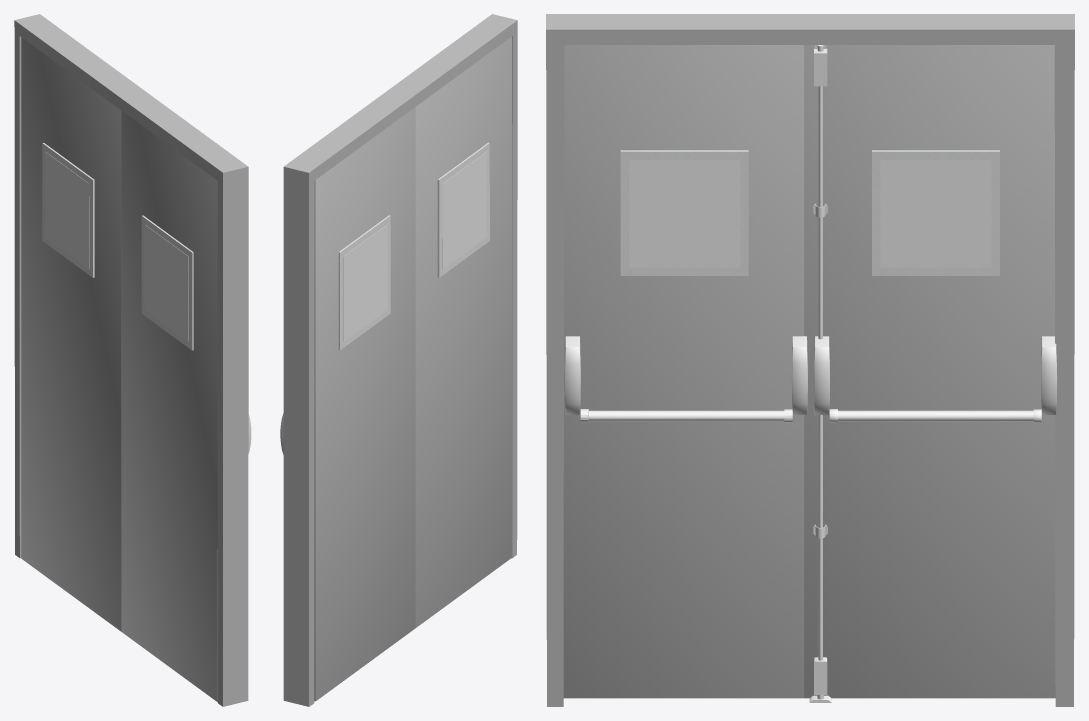
The picture shows the model from 3 angles, left to right: view 1: azimuth 30°, elevation 25°; view 2: azimuth 150°, elevation 25°; view 3: azimuth 270°, elevation 25°; orthographic projection. The views are drawn at different scales.
Visible parts, largest first — view 1: DOOR_2, DOOR_1, FRAME, Plane002, Plane001.001; view 2: DOOR_2, DOOR_1, FRAME, Plane001.001, Plane002; view 3: DOOR_2, DOOR_1, FRAME, Box002.001, Plane001.001, Plane002, Cylinder002, Box003, Cylinder003.
Boxes of the visible parts, left/top/right/bottom form: DOOR_2: left=21, top=37, right=121, bottom=631; DOOR_1: left=121, top=110, right=217, bottom=702; FRAME: left=14, top=14, right=248, bottom=706; Plane002: left=42, top=143, right=94, bottom=277; Plane001.001: left=141, top=215, right=193, bottom=350; DOOR_2: left=314, top=107, right=415, bottom=701; DOOR_1: left=415, top=36, right=511, bottom=627; FRAME: left=283, top=14, right=517, bottom=706; Plane001.001: left=437, top=142, right=489, bottom=277; Plane002: left=338, top=215, right=390, bottom=350; DOOR_2: left=804, top=45, right=1055, bottom=698; DOOR_1: left=563, top=45, right=804, bottom=698; FRAME: left=546, top=14, right=1074, bottom=706; Box002.001: left=564, top=336, right=807, bottom=422; Plane001.001: left=620, top=150, right=748, bottom=275; Plane002: left=872, top=150, right=999, bottom=275; Cylinder002: left=829, top=409, right=1041, bottom=422; Box003: left=814, top=336, right=1057, bottom=414; Cylinder003: left=817, top=45, right=823, bottom=699.
Size of the model in its own units: 18.38 by 249 by 176.
